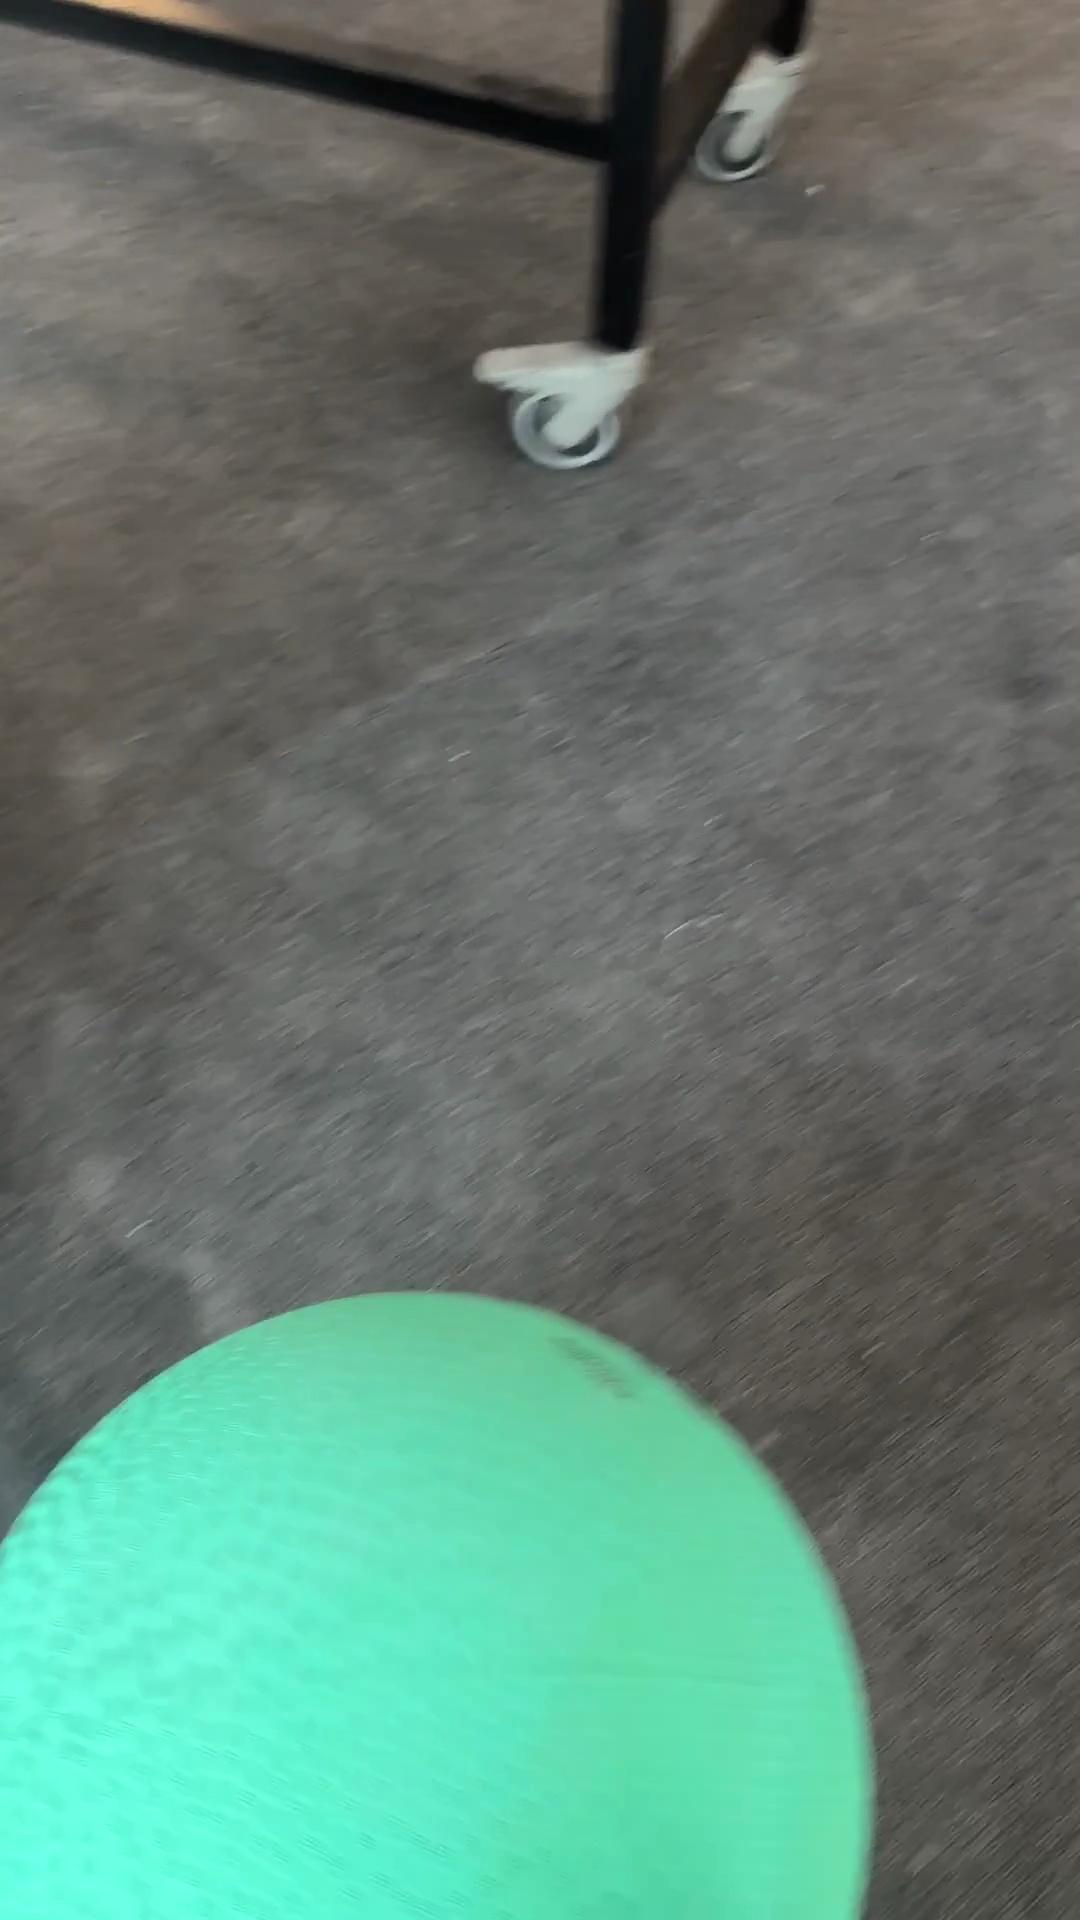ALGAE: (1, 1284, 878, 1917)
